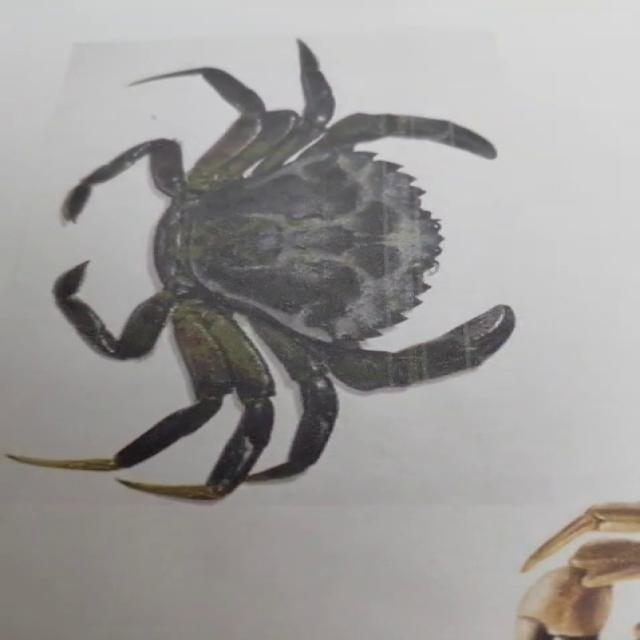egc: (7, 41, 514, 501)
